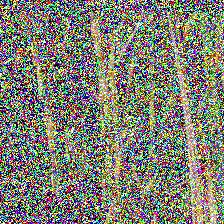Leaf_Blast: (161, 16, 220, 224)
